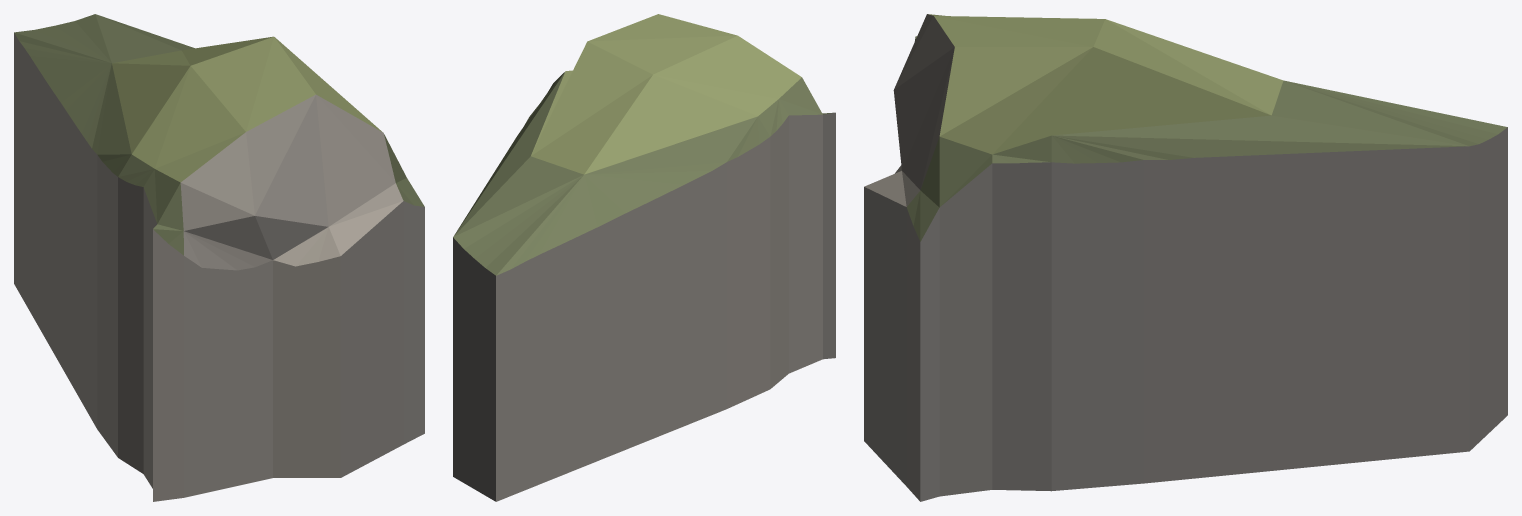
The model's file is cliff_front_columns.glb.
The picture shows the model from 3 angles, left to right: view 1: azimuth 30°, elevation 25°; view 2: azimuth 150°, elevation 25°; view 3: azimuth 270°, elevation 25°; orthographic projection. The views are drawn at different scales.
Parts seen in each view (by area): view 1: cliff_front_columns; view 2: cliff_front_columns; view 3: cliff_front_columns.
Boxes of the visible parts, box(x1,y1,x2,y2) form: cliff_front_columns: box(14, 14, 424, 501); cliff_front_columns: box(453, 14, 835, 501); cliff_front_columns: box(864, 14, 1507, 501).
Bounding box in the file's own units: 54.99 × 69.04 × 97.56.
